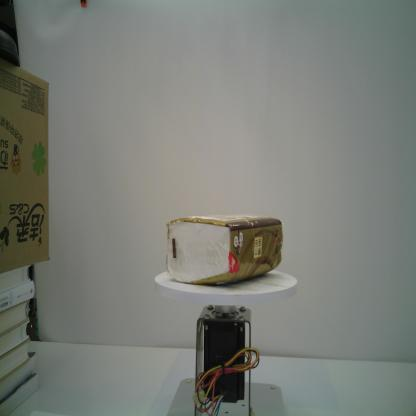Tissue: (166, 215, 284, 285)
